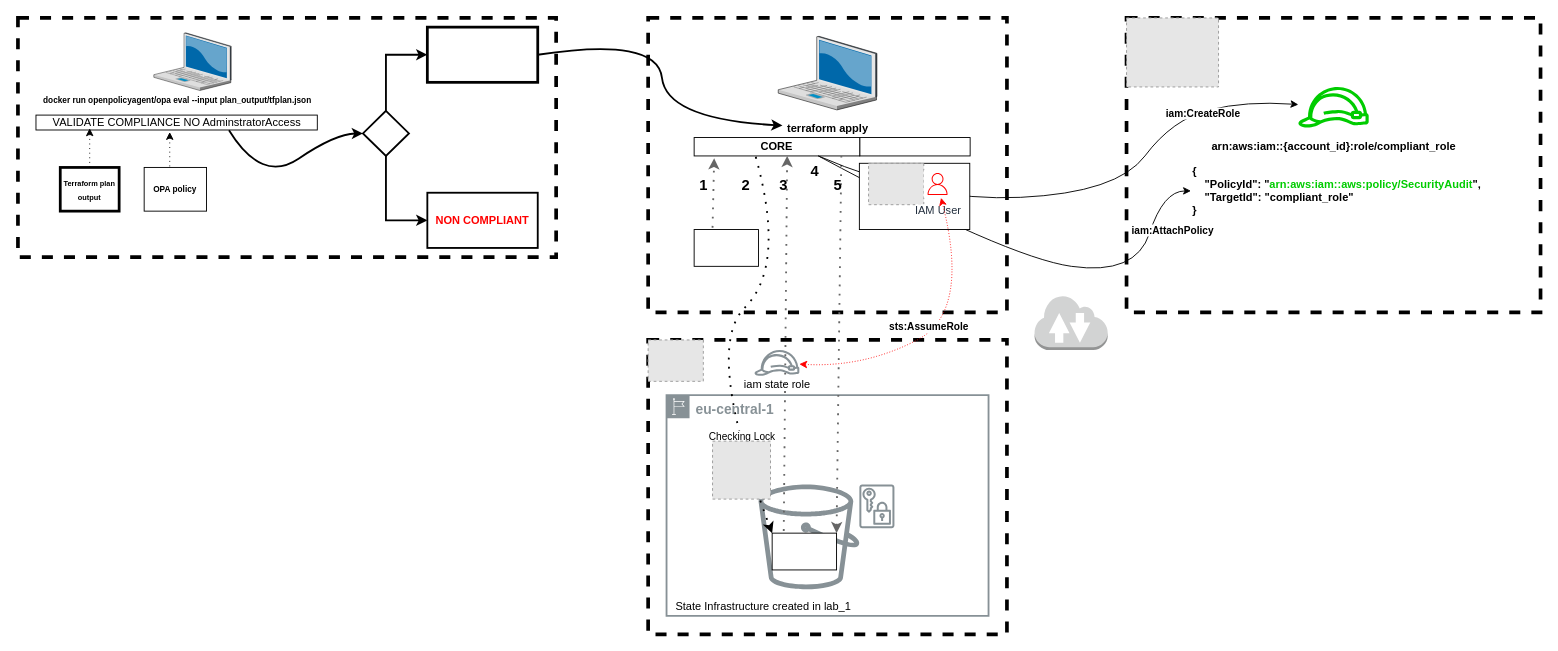
Some shapes in this 1558 by 651 pixel diagram are drawn without their labels. Grey dashed boxes stand in for pictures. The centre of each missing label's shape, as x and y in pixels:
"COMPLIANT" belongs at pixel 482 54.
"PROVIDER" belongs at pixel 914 146.
"Terraform config" belongs at pixel 726 247.
"Terraform State file" belongs at pixel 804 551.
